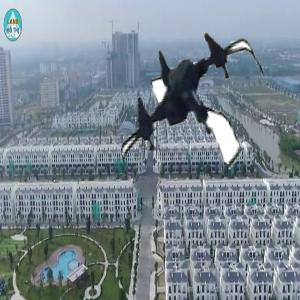drone: (108, 23, 273, 188)
